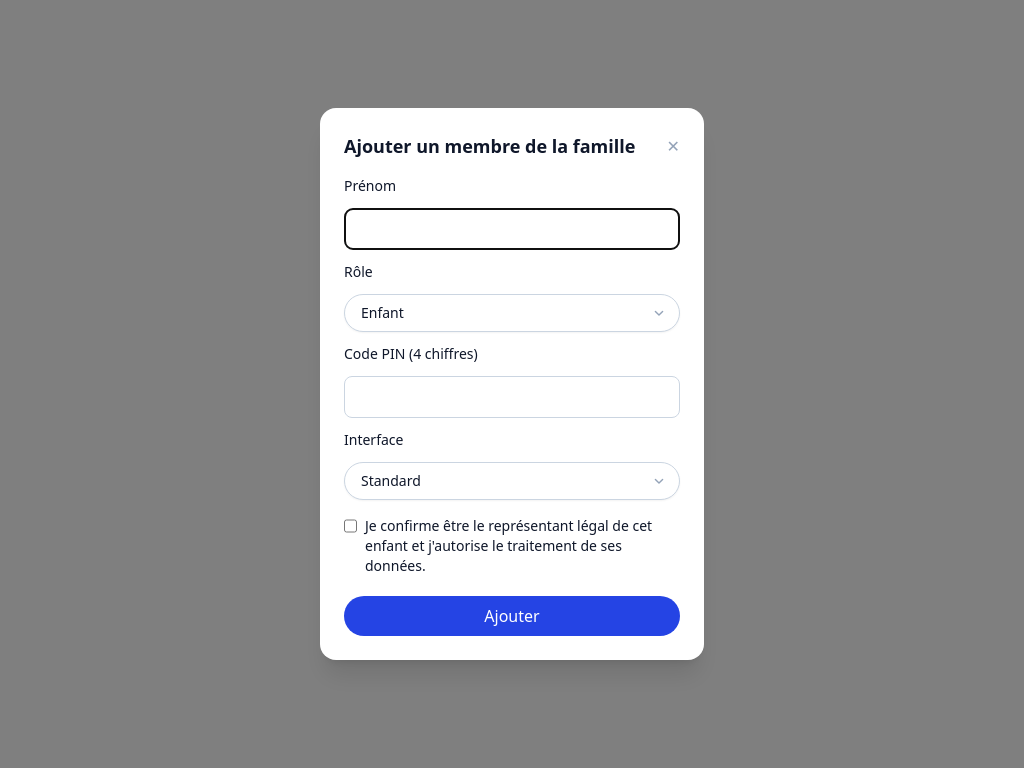
AddMemberModal › maps a FORBIDDEN API error to the tier-limit message
In the field labelled "Prénom": (512, 229) [344,208,680,250], type "Nouveau"
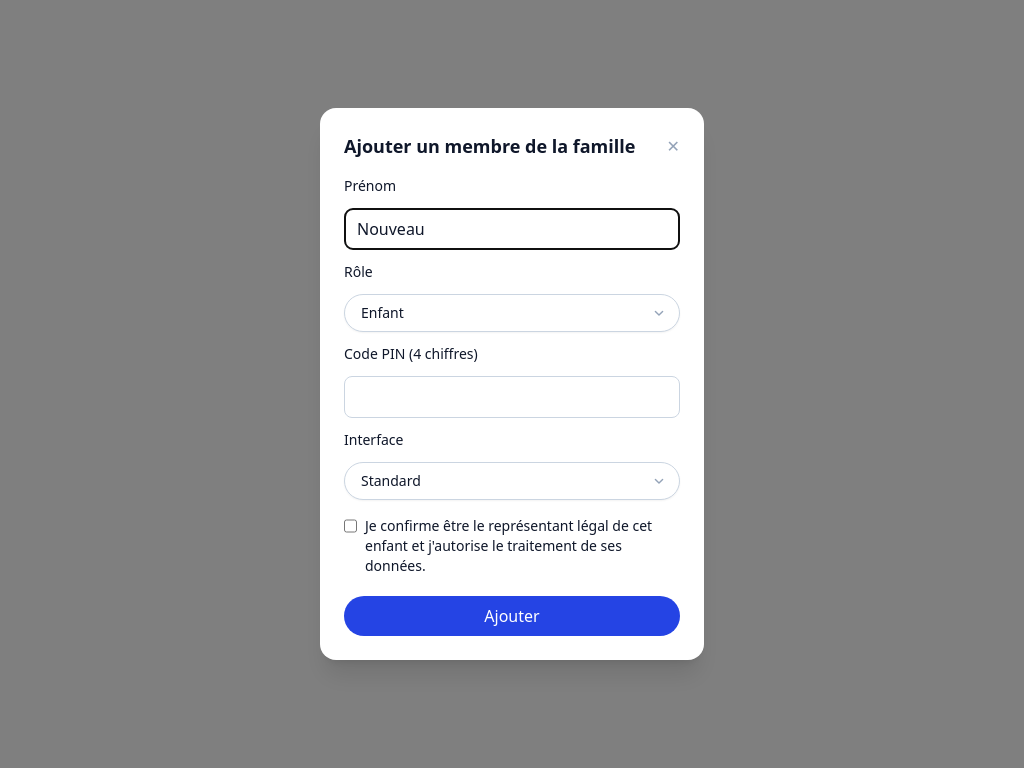
In the field labelled "Code PIN (4 chiffres)": (512, 397) [344,376,680,418], type "1234"
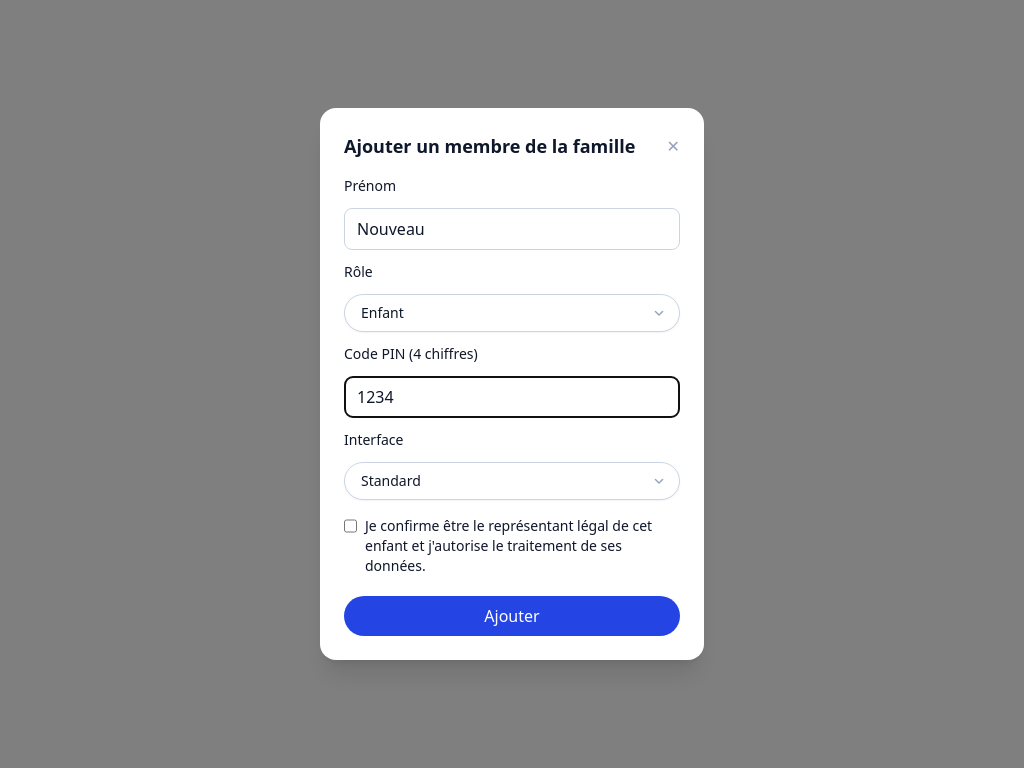
Click the checkbox labelled "représentant légal": (350, 526) [344,518,357,534]
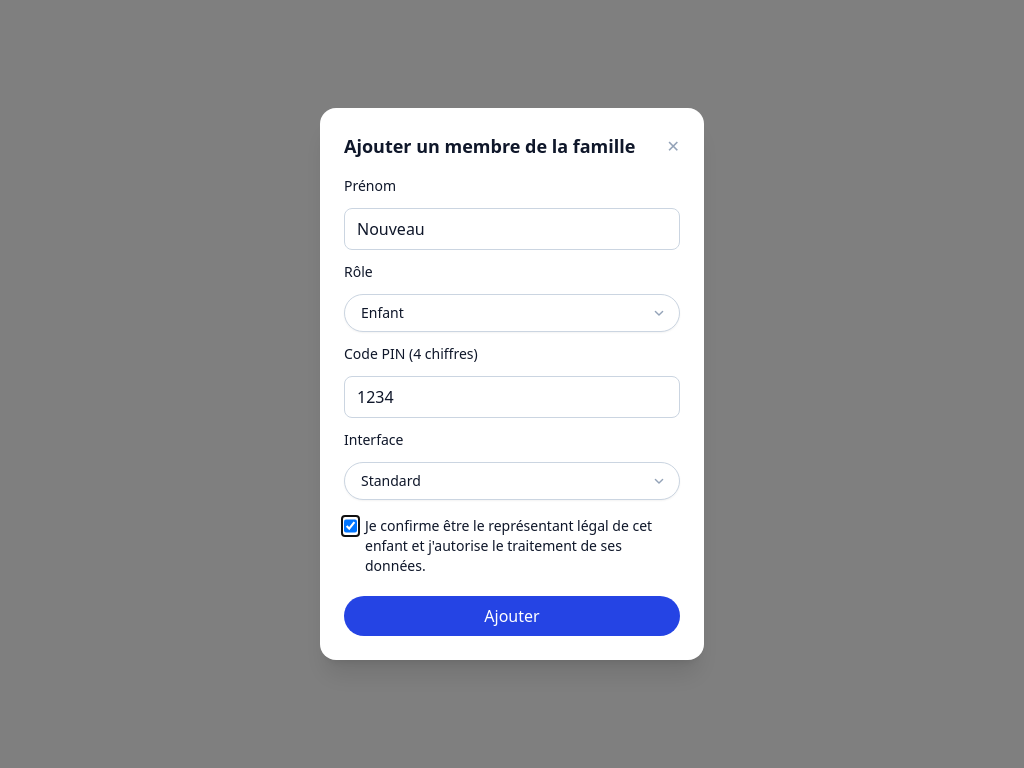
Click the button "Ajouter": (512, 616) [344,596,680,636]
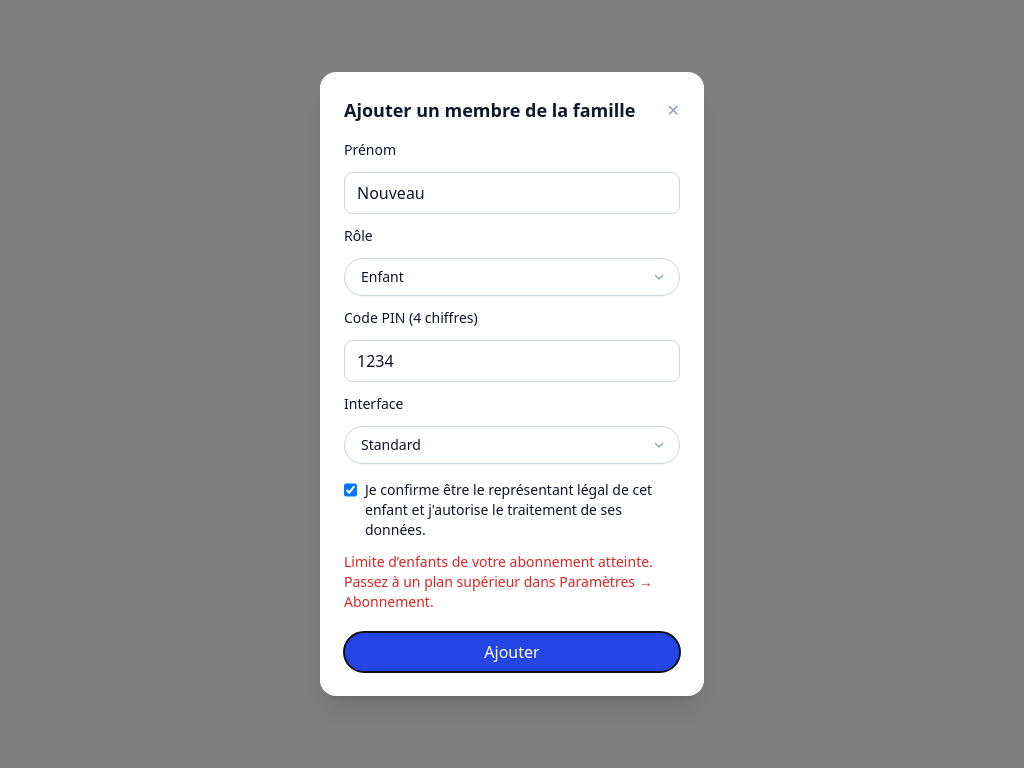
Now the text "Limite d’enfants de votre abonnement atteinte" is shown, box [344,552,653,611]
